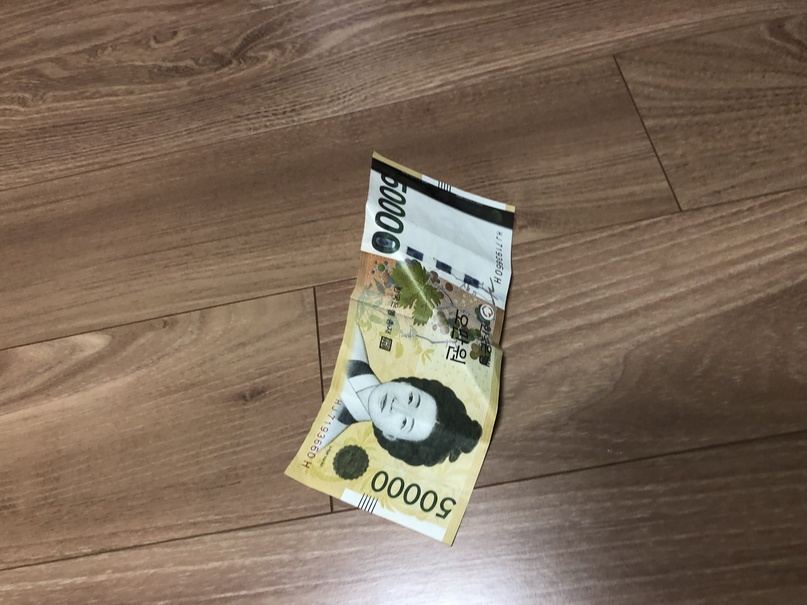50000won: (284, 151, 516, 546)
